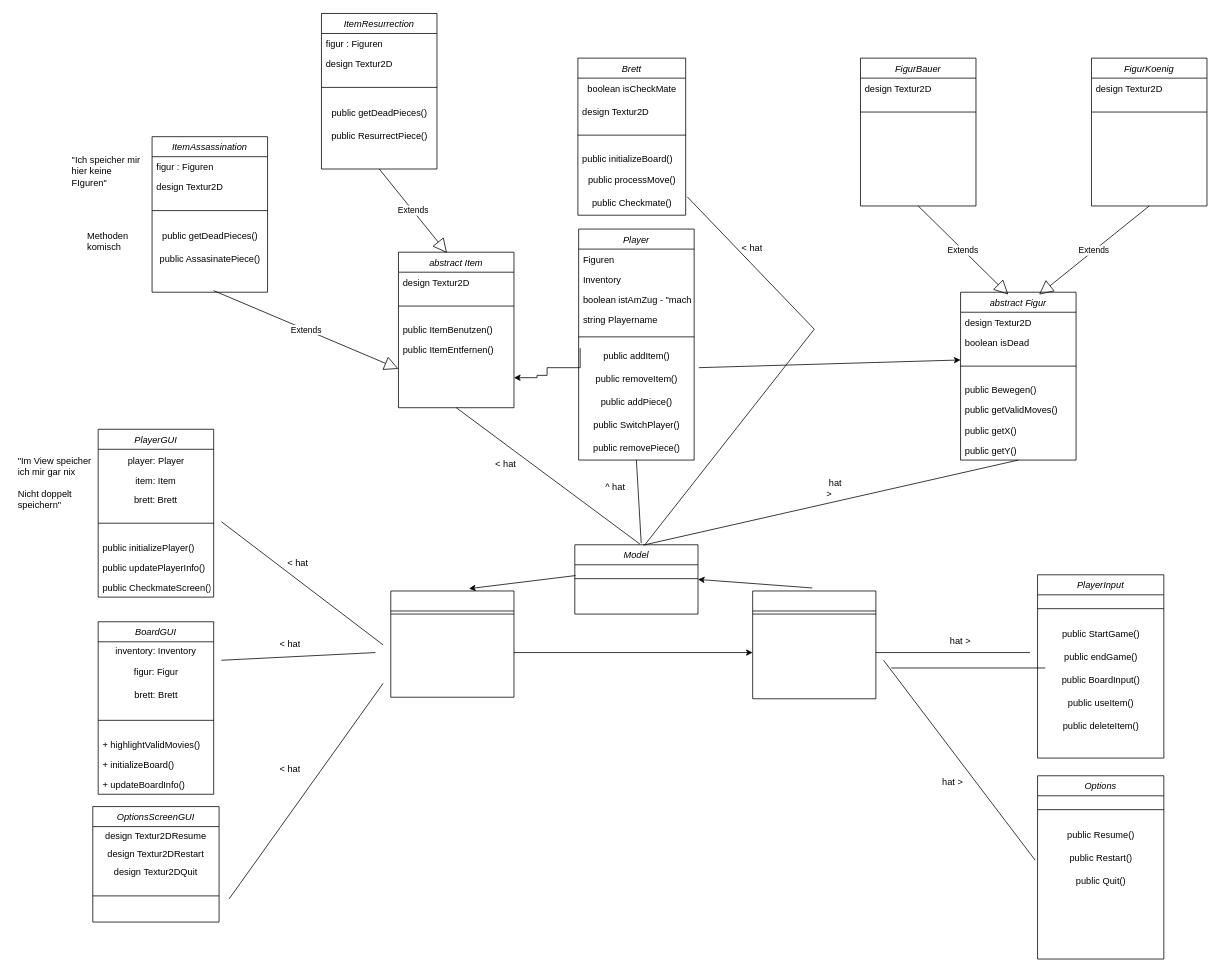
The diagram is 1220 pixels wide and 973 high, and some of its shapes have lost their labels. The centre of each missing label's shape, as x and y in pixels:
"Controller" goes at (814,644).
"View" goes at (452,643).
